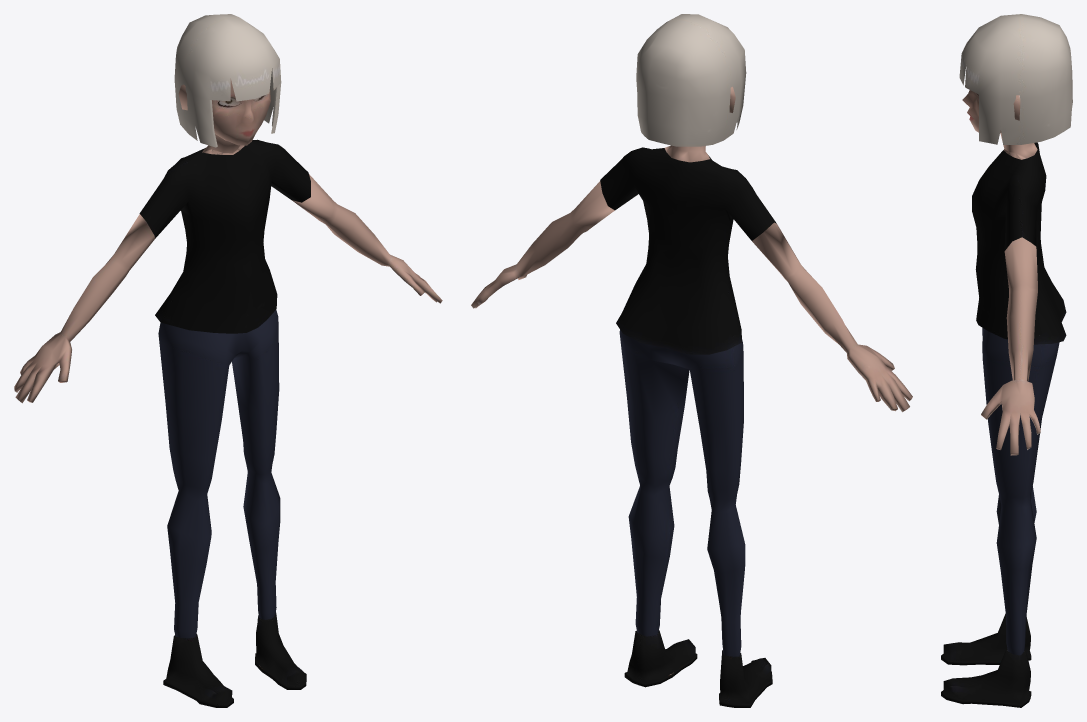
The model's file is hairGirl1.obj.
3 renders of one model, left to right at view 1: azimuth 30°, elevation 25°; view 2: azimuth 150°, elevation 25°; view 3: azimuth 270°, elevation 25°, orthographic. The views are drawn at different scales.
Visible parts, largest first — view 1: hair; view 2: hair; view 3: hair.
Part boxes in pixels (box(x1,y1,x2,y2)): hair: box(14, 14, 442, 707); hair: box(471, 14, 912, 707); hair: box(941, 14, 1072, 707).
Bounding box in the file's own units: 1.15 × 1.7 × 0.3077.
Materials: 1 (1 with a texture image).
